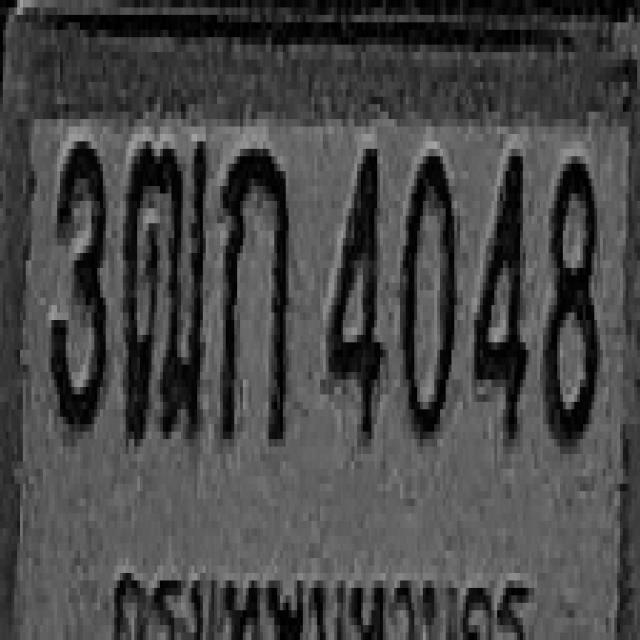0: (400, 149, 457, 439)
10GorGai: (219, 145, 290, 443)
27ThorPhuThao: (124, 138, 207, 442)
3: (48, 134, 106, 432)
4: (326, 141, 383, 439), (473, 145, 527, 443)
8: (543, 156, 597, 446)
